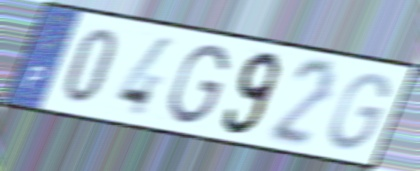0: (60, 26, 120, 106)
2: (264, 55, 344, 150)
4: (111, 33, 177, 120)
9: (220, 49, 285, 139)
G: (166, 42, 231, 127), (328, 71, 392, 154)
